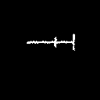double_crochet: (27, 34, 74, 49)
